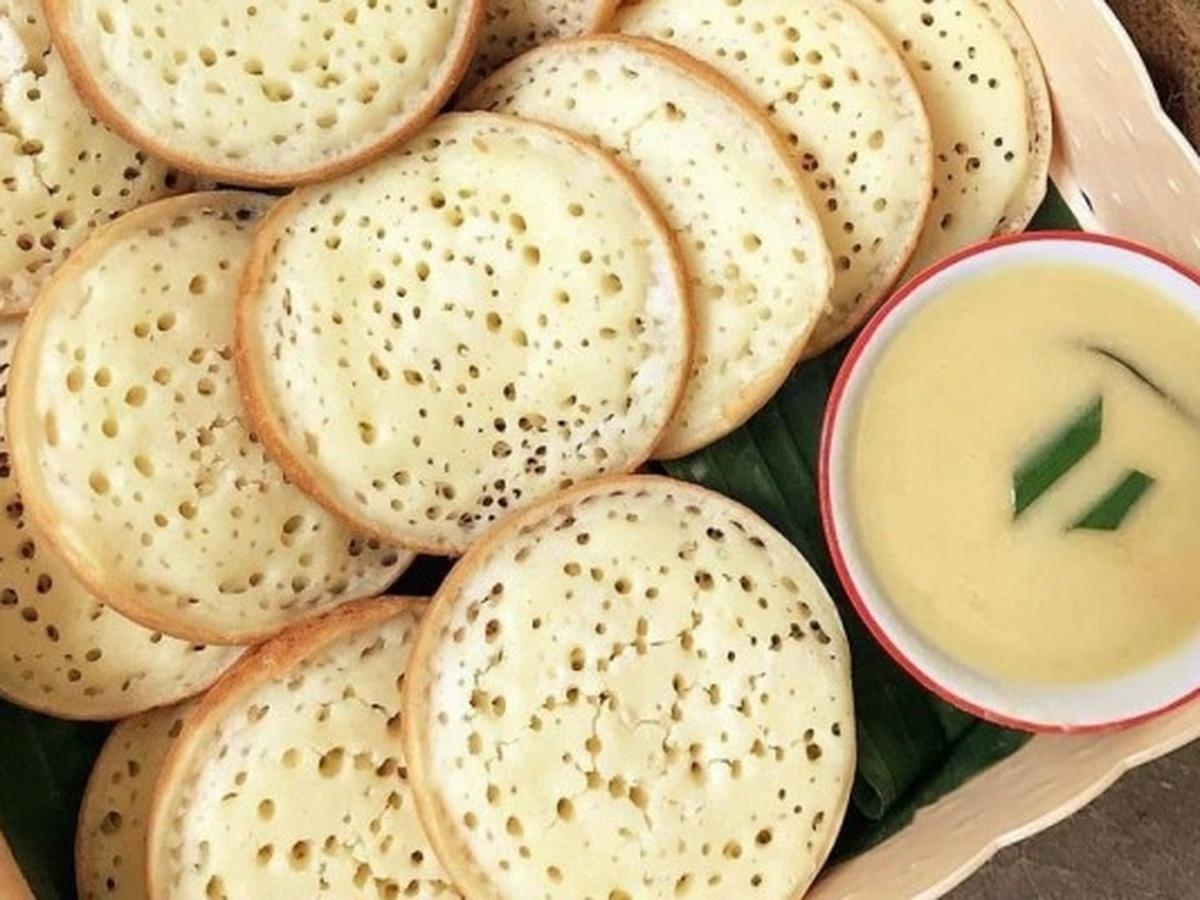srabi: (245, 115, 693, 547), (397, 478, 857, 888)
